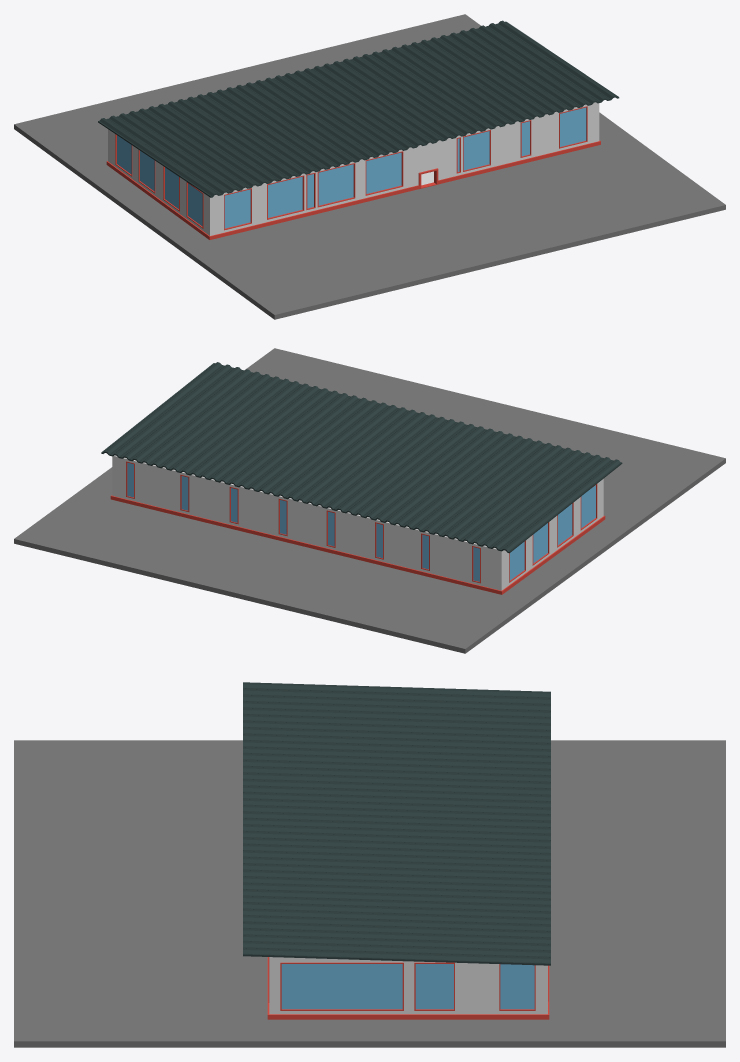
Rendered from House.fbx.
3 views of the same model, one above another, from view 1: azimuth 30°, elevation 25°; view 2: azimuth 150°, elevation 25°; view 3: azimuth 270°, elevation 25° (orthographic). The views are drawn at different scales.
Parts seen in each view (by area): view 1: Walls; view 2: Walls; view 3: Walls.
Part boxes in pixels (x1=…): Walls: x1=14, y1=14, x2=725, y2=319; Walls: x1=14, y1=348, x2=725, y2=653; Walls: x1=14, y1=682, x2=725, y2=1047.
Bounding box in the file's own units: 9375 × 1164 × 9375.
